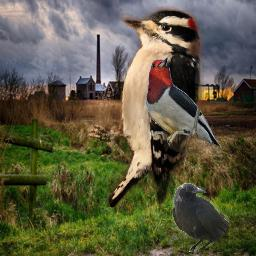Crow: (172, 183, 229, 252)
Woodpecker: (85, 4, 204, 207), (142, 52, 226, 158)
